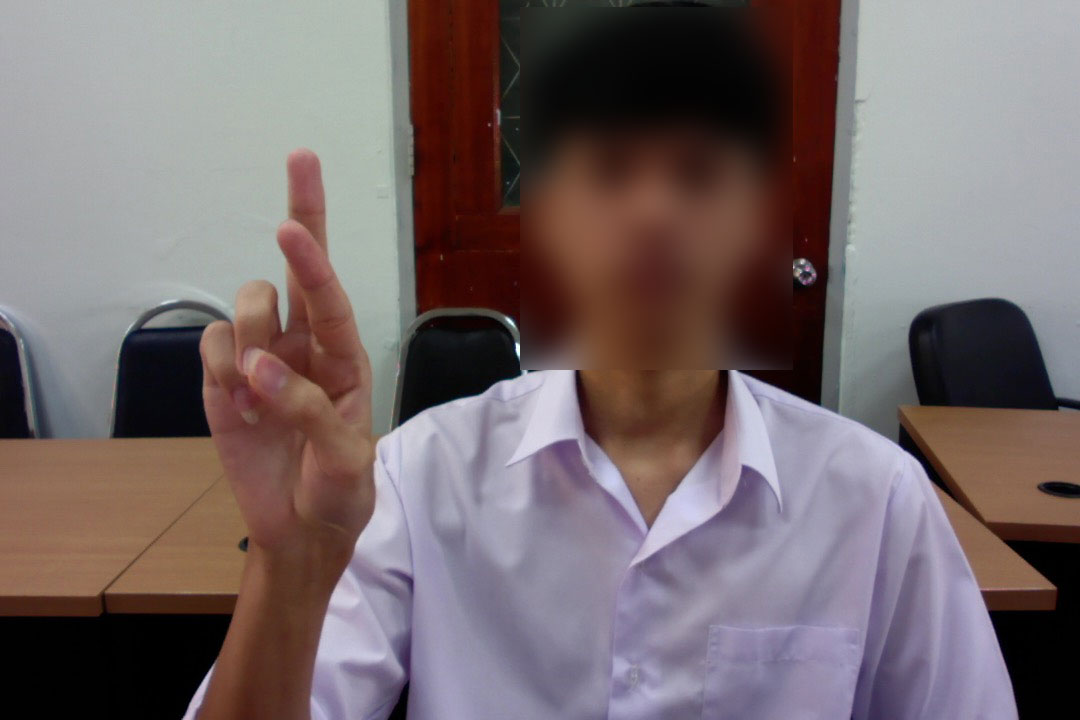rao: (184, 135, 396, 560)
